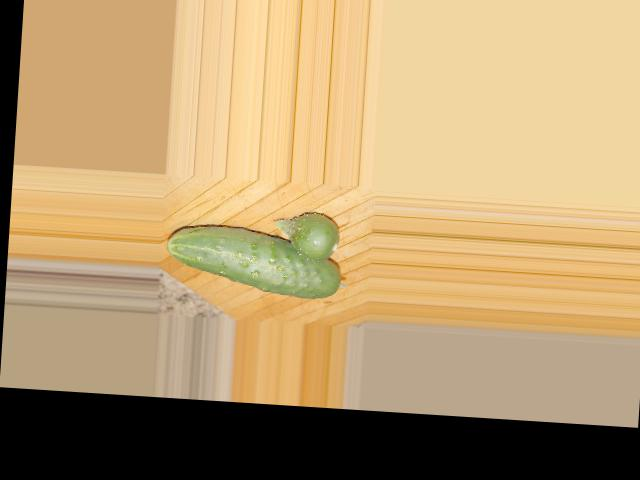cucumber: (163, 222, 344, 300)
